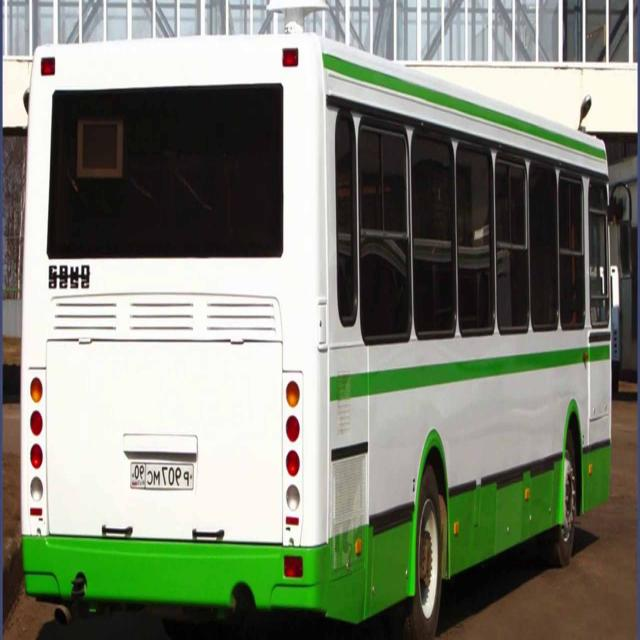bus: (16, 37, 614, 626)
